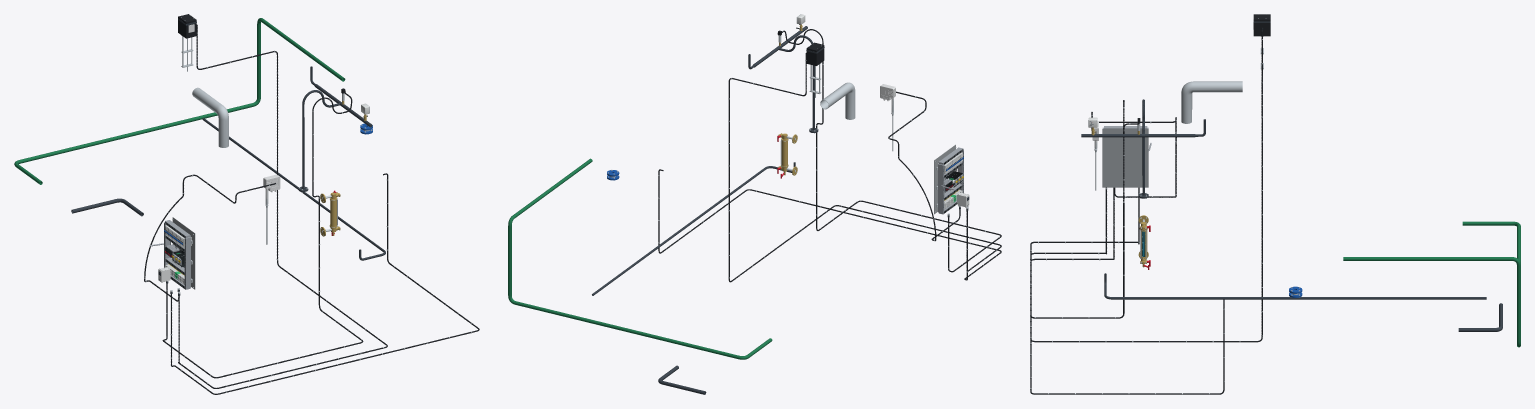
3 views of the same model, side by side, from view 1: azimuth 30°, elevation 25°; view 2: azimuth 150°, elevation 25°; view 3: azimuth 270°, elevation 25° (orthographic). The views are drawn at different scales.
Parts seen in each view (by area): view 1: to_economizer / green, cabinet_interior / cabinet_interior_0.npz, gpz_drive_cable / black, wiring_pressure_transmitter / black, wiring_pump_1 / black, steam_rise / steel, pressure_header / dark, tds_common / dark, wiring_high_level / black, sight_glasses_1 / sight_glasses_1_0.npz; view 2: to_economizer / green, cabinet_interior / cabinet_interior_0.npz, gpz_drive_cable / black, wiring_pump_1 / black, wiring_pressure_transmitter / black, steam_rise / steel, tds_common / dark, pressure_header / dark, sight_glasses_1 / sight_glasses_1_0.npz, wiring_high_level / black; view 3: cabinet_interior / cabinet_interior_0.npz, to_economizer / green, gpz_drive_cable / black, tds_common / dark, wiring_pressure_transmitter / black, steam_rise / steel, wiring_pump_1 / black, pressure_header / dark, sight_glasses_1 / sight_glasses_1_0.npz, wiring_high_level / black.
Boxes of the visible parts, <box> form: to_economizer / green: <box>14,18,345,184</box>; cabinet_interior / cabinet_interior_0.npz: <box>149,217,195,289</box>; gpz_drive_cable / black: <box>178,24,387,388</box>; wiring_pressure_transmitter / black: <box>162,91,363,378</box>; wiring_pump_1 / black: <box>171,173,479,394</box>; steam_rise / steel: <box>192,87,228,147</box>; pressure_header / dark: <box>298,66,372,191</box>; tds_common / dark: <box>202,118,385,260</box>; wiring_high_level / black: <box>144,174,275,301</box>; sight_glasses_1 / sight_glasses_1_0.npz: <box>320,190,340,236</box>; to_economizer / green: <box>508,158,772,359</box>; cabinet_interior / cabinet_interior_0.npz: <box>934,144,963,214</box>; gpz_drive_cable / black: <box>728,52,1001,282</box>; wiring_pump_1 / black: <box>658,169,1001,280</box>; wiring_pressure_transmitter / black: <box>777,29,1001,272</box>; steam_rise / steel: <box>820,82,855,119</box>; tds_common / dark: <box>592,162,795,295</box>; pressure_header / dark: <box>748,26,818,132</box>; sight_glasses_1 / sight_glasses_1_0.npz: <box>777,133,797,178</box>; wiring_high_level / black: <box>888,91,960,241</box>; cabinet_interior / cabinet_interior_0.npz: <box>1102,126,1151,187</box>; to_economizer / green: <box>1343,221,1520,347</box>; gpz_drive_cable / black: <box>1030,29,1262,342</box>; tds_common / dark: <box>1104,273,1486,299</box>; wiring_pressure_transmitter / black: <box>1030,100,1139,318</box>; steam_rise / steel: <box>1181,81,1242,123</box>; wiring_pump_1 / black: <box>1030,187,1224,394</box>; pressure_header / dark: <box>1081,99,1205,198</box>; sight_glasses_1 / sight_glasses_1_0.npz: <box>1138,215,1150,269</box>; wiring_high_level / black: <box>1091,112,1176,197</box>.
Bounding box in the file's own units: 3.7 × 3.36 × 5.14.
